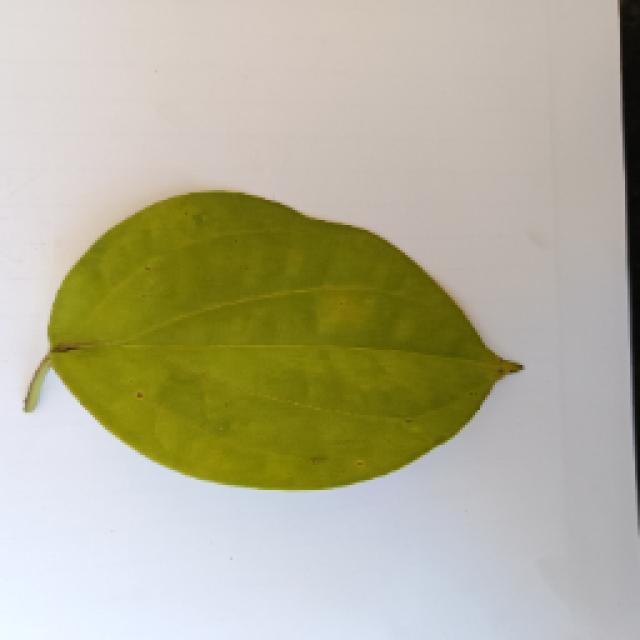slow-decline: (22, 188, 520, 488)
